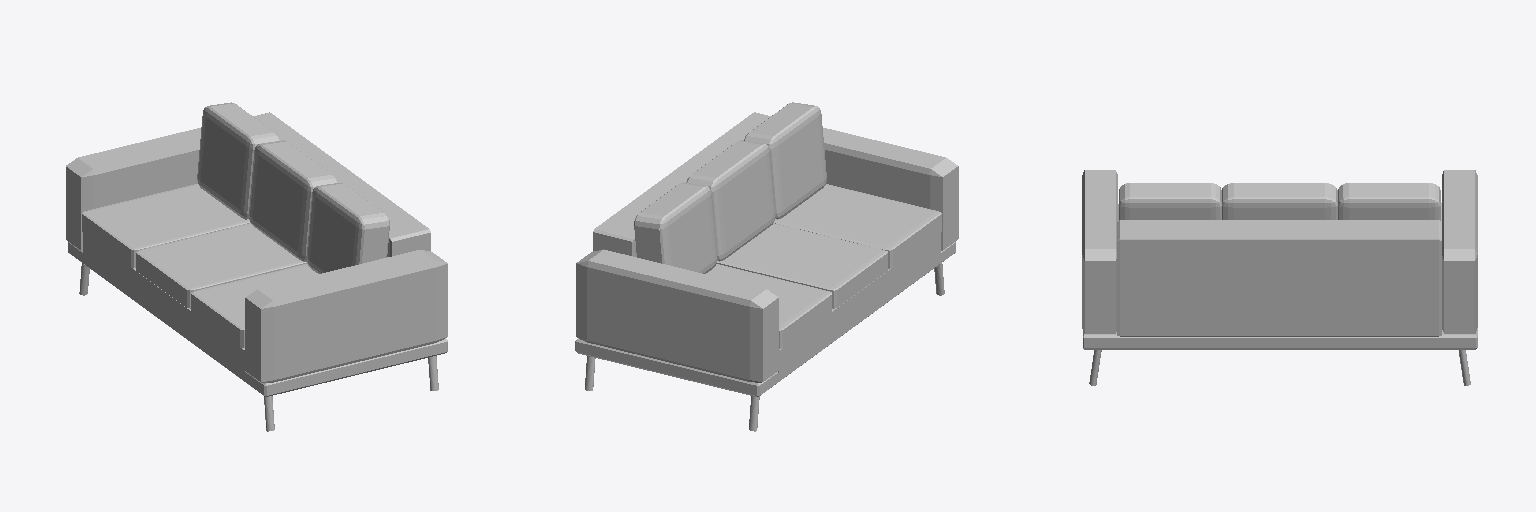
The model's file is sofa.obj.
3 renders of one model, left to right at view 1: azimuth 30°, elevation 25°; view 2: azimuth 150°, elevation 25°; view 3: azimuth 270°, elevation 25°, orthographic.
Parts seen in each view (by area): view 1: Cylinder.008; view 2: Cylinder.008; view 3: Cylinder.008.
Part boxes in pixels (x1,y1,x2,y2): Cylinder.008: (66, 102, 447, 431); Cylinder.008: (575, 102, 958, 431); Cylinder.008: (1082, 170, 1477, 385).
Bounding box in the file's own units: 7.75 × 6.84 × 14.02.